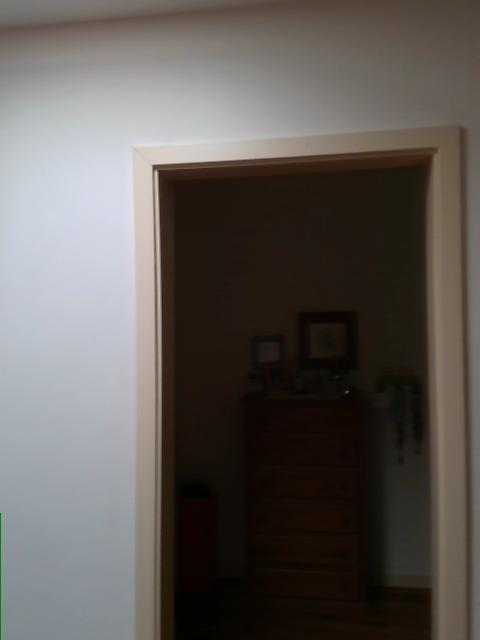open_door: (145, 141, 446, 639)
